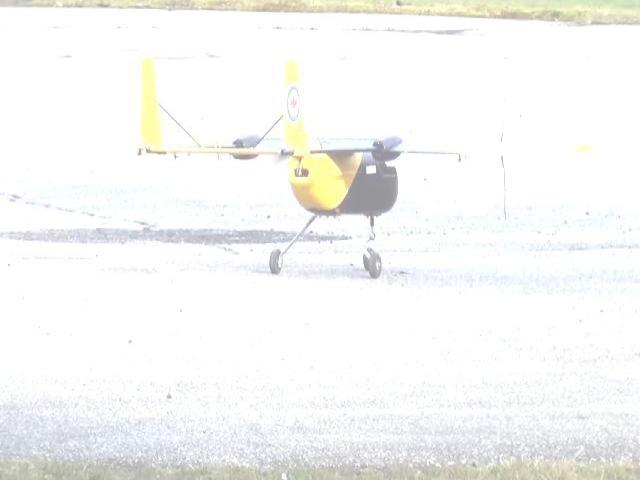iha: (68, 56, 596, 279)
